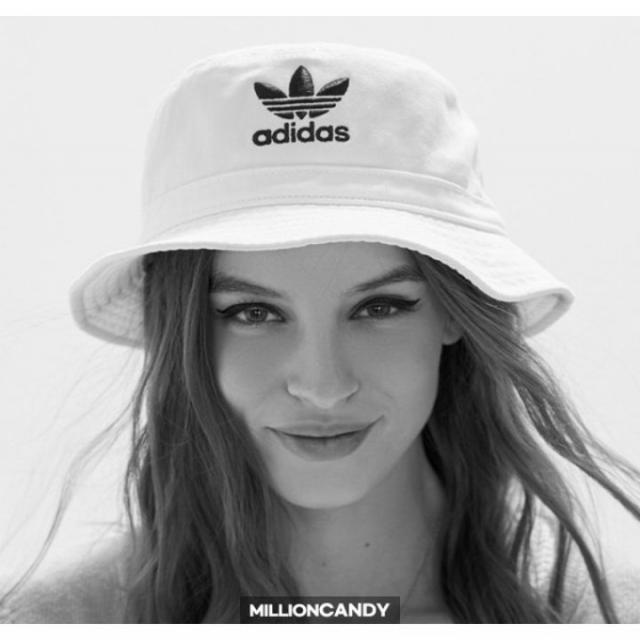Adidas: (230, 51, 367, 123)
